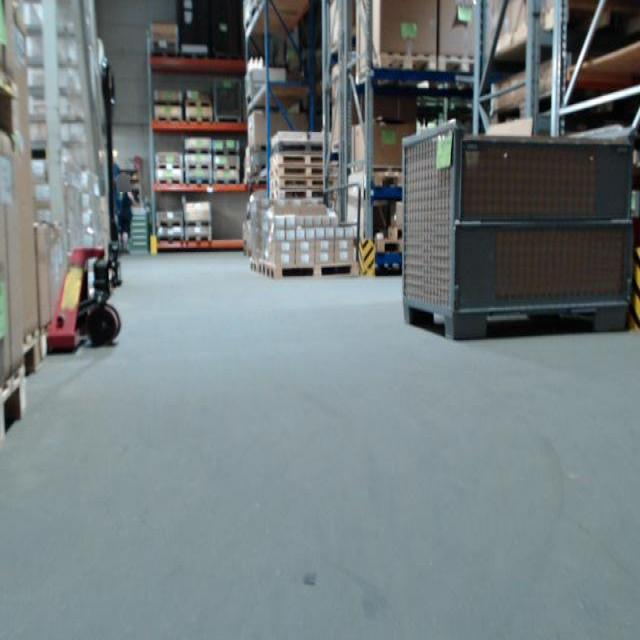pallet: (490, 86, 559, 129), (355, 53, 437, 89), (0, 364, 26, 447), (266, 263, 359, 281), (21, 327, 38, 385), (438, 54, 477, 77), (371, 169, 407, 189), (277, 184, 326, 197), (276, 147, 324, 160), (270, 136, 324, 147), (276, 168, 324, 177), (373, 240, 405, 252), (276, 160, 324, 168), (276, 177, 326, 184), (213, 52, 243, 61), (181, 52, 210, 61), (150, 40, 178, 49), (154, 99, 183, 107), (184, 99, 213, 107), (150, 50, 178, 58), (157, 234, 184, 242), (184, 115, 214, 122), (213, 163, 239, 171), (154, 163, 183, 170), (184, 178, 213, 185), (185, 234, 214, 241), (184, 148, 212, 155), (184, 220, 212, 227), (156, 220, 183, 227), (154, 116, 183, 122), (155, 178, 184, 184), (213, 149, 241, 155), (184, 164, 212, 170), (257, 262, 268, 277), (214, 178, 239, 184), (250, 261, 259, 272)
pallet_truck: (41, 56, 134, 354)
stillage: (400, 111, 635, 337), (207, 77, 244, 125)
